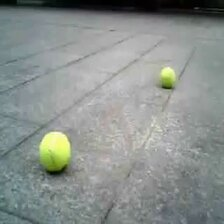tennis: (39, 132, 70, 170), (159, 67, 176, 86)
